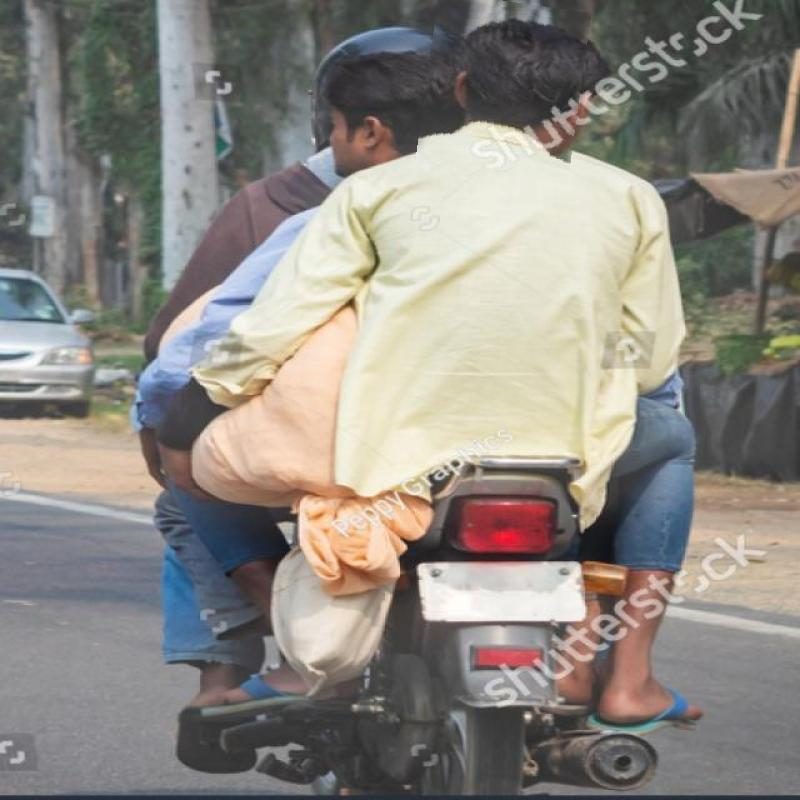nohelmet: (421, 0, 586, 173)
